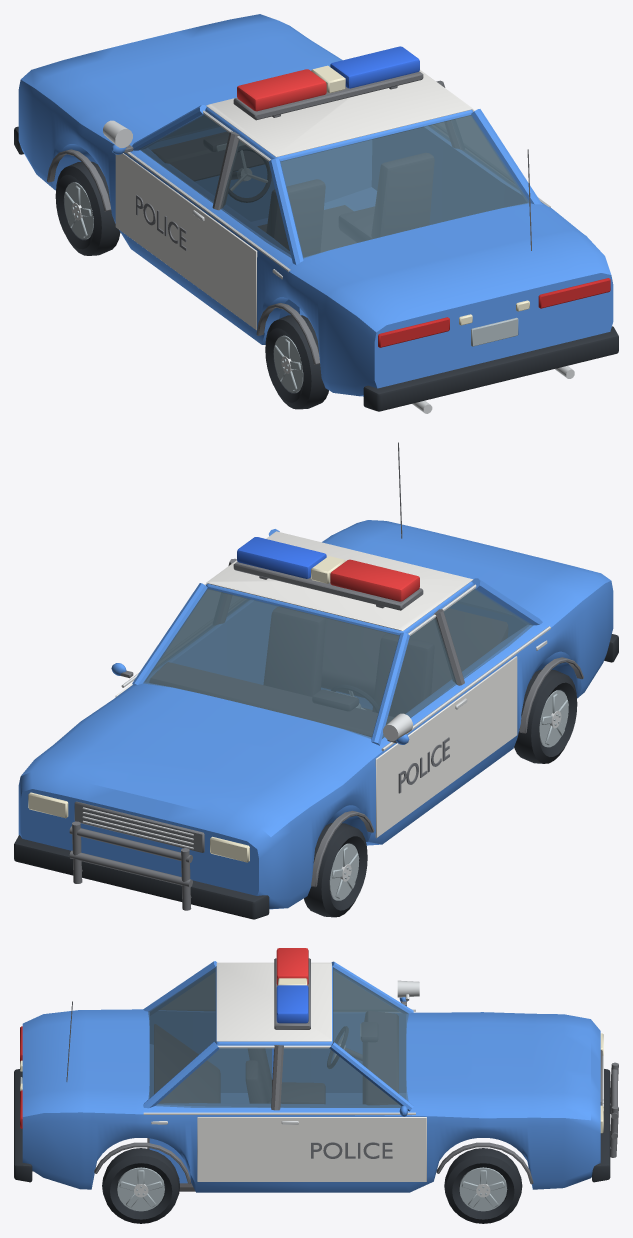
File: PatrolCar.fbx
3 renders of one model, top to bottom at view 1: azimuth 30°, elevation 25°; view 2: azimuth 150°, elevation 25°; view 3: azimuth 270°, elevation 25°, orthographic. The views are drawn at different scales.
Parts seen in each view (by area): view 1: Body__paint, Body__glass, Body__white, Body__interior, Body__rubber, Body__engine, WheelFL__rubber, WheelRL__rubber, Body__sirenred, Body__sirenblue, Body__tail, Body__chrome (+4 smaller); view 2: Body__paint, Body__glass, Body__interior, Body__white, Body__engine, Body__rubber, Body__chrome, WheelRL__rubber, WheelFL__rubber, Body__sirenred, Body__sirenblue, Body__lamp (+2 smaller); view 3: Body__paint, Body__glass, Body__white, Body__interior, Body__engine, WheelFR__rubber, WheelRR__rubber, Body__rubber, Body__chrome, WheelFR__metal, WheelRR__metal, Body__sirenblue (+2 smaller).
Part boxes in pixels (bbox=[...]): Body__paint: bbox=[18, 14, 613, 396]; Body__glass: bbox=[139, 114, 529, 258]; Body__white: bbox=[115, 70, 472, 330]; Body__interior: bbox=[151, 132, 434, 256]; Body__rubber: bbox=[14, 126, 618, 411]; Body__engine: bbox=[47, 71, 531, 364]; WheelFL__rubber: bbox=[55, 161, 120, 255]; WheelRL__rubber: bbox=[265, 315, 328, 409]; Body__sirenred: bbox=[237, 69, 326, 111]; Body__sirenblue: bbox=[330, 46, 419, 88]; Body__tail: bbox=[378, 278, 610, 347]; Body__chrome: bbox=[103, 109, 574, 413]; Body__paint: bbox=[18, 520, 613, 909]; Body__glass: bbox=[143, 588, 533, 738]; Body__interior: bbox=[149, 607, 508, 736]; Body__white: bbox=[115, 531, 517, 837]; Body__engine: bbox=[69, 442, 583, 910]; Body__rubber: bbox=[14, 634, 618, 919]; Body__chrome: bbox=[82, 583, 550, 849]; WheelRL__rubber: bbox=[514, 669, 577, 763]; WheelFL__rubber: bbox=[304, 823, 367, 917]; Body__sirenred: bbox=[330, 559, 419, 601]; Body__sirenblue: bbox=[237, 537, 326, 578]; Body__lamp: bbox=[28, 556, 345, 862]; Body__paint: bbox=[22, 961, 600, 1192]; Body__glass: bbox=[148, 967, 408, 1107]; Body__white: bbox=[197, 962, 426, 1181]; Body__interior: bbox=[147, 1011, 398, 1191]; Body__engine: bbox=[66, 958, 618, 1184]; WheelFR__rubber: bbox=[444, 1148, 522, 1223]; WheelRR__rubber: bbox=[102, 1148, 179, 1223]; Body__rubber: bbox=[14, 1069, 610, 1182]; Body__chrome: bbox=[32, 980, 603, 1171]; WheelFR__metal: bbox=[459, 1167, 507, 1211]; WheelRR__metal: bbox=[117, 1167, 164, 1211]; Body__sirenblue: bbox=[276, 985, 308, 1023].
Size of the model in its own units: 2.29 by 1.77 by 4.95.
